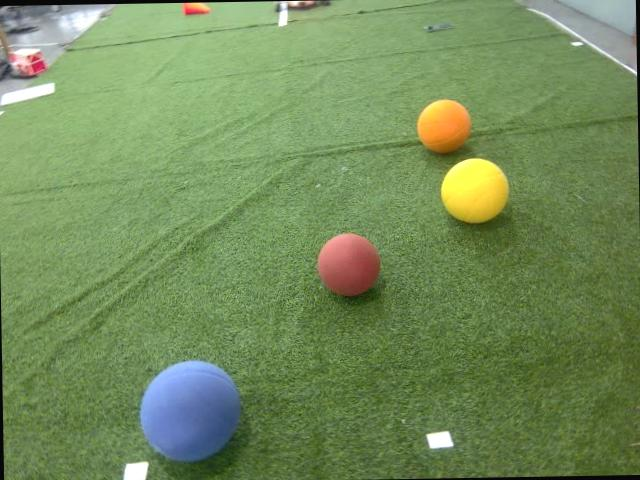blue_ball: (140, 358, 242, 462)
orange_ball: (416, 98, 472, 154)
red_ball: (316, 232, 382, 297)
yellow_ball: (439, 156, 510, 223)
